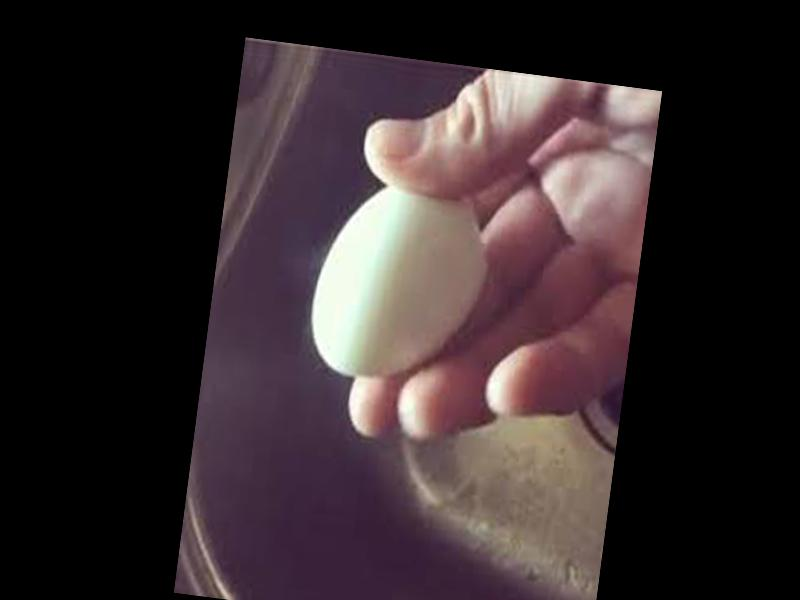Eggs: (304, 176, 492, 391)
